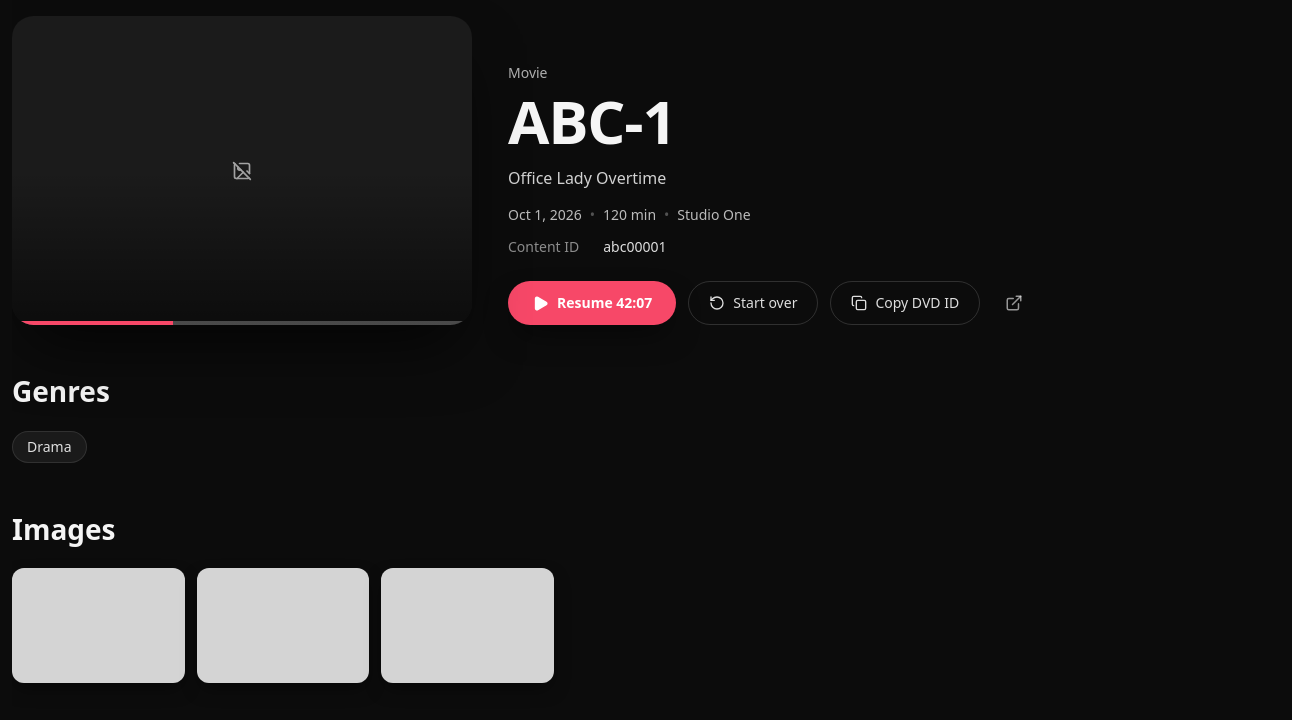
Test: JavMoviePage › offers to resume where you left off, or start over
The width and height of the screenshot is (1292, 720).
Expected: the button "Resume 42:07" is shown, [508, 281, 676, 325]
Click the button "Start over" at (753, 303), box [688, 281, 818, 325]
(page scrolled)
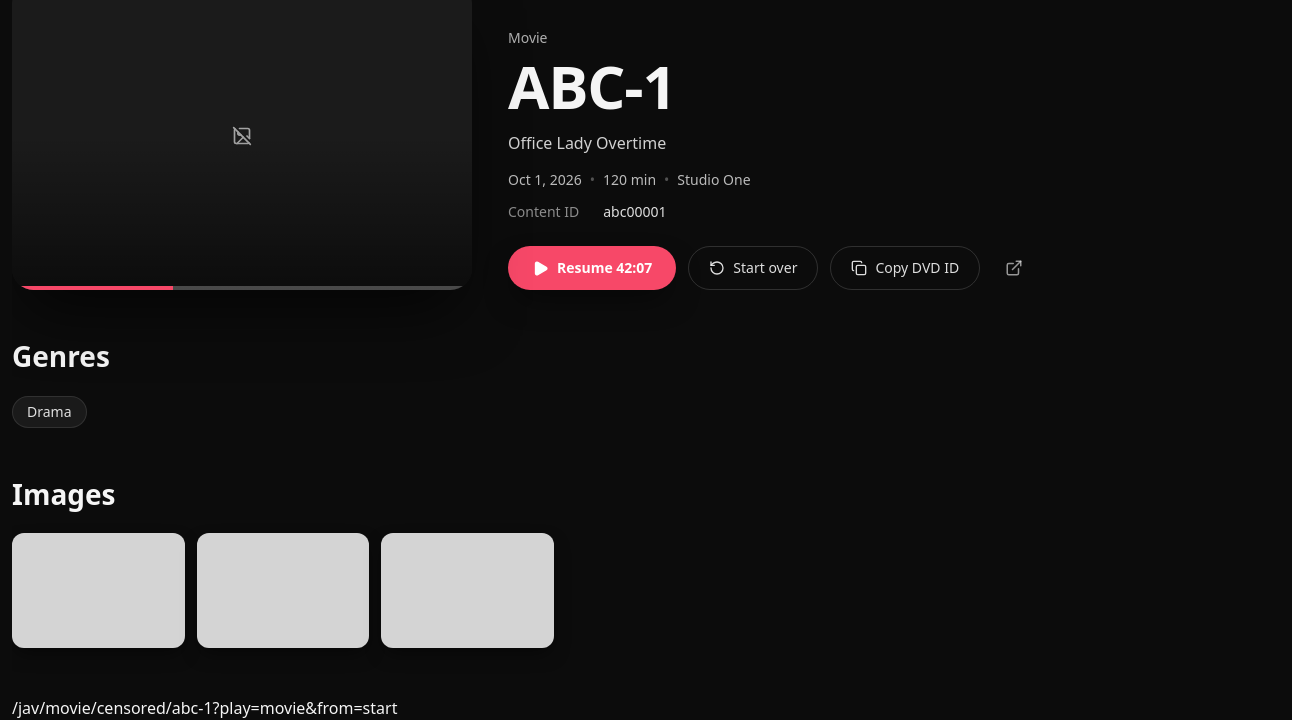
Expected: the text with test id "where" reads "/jav/movie/censored/abc-1?play=movie&from=start", [12, 697, 397, 719]
